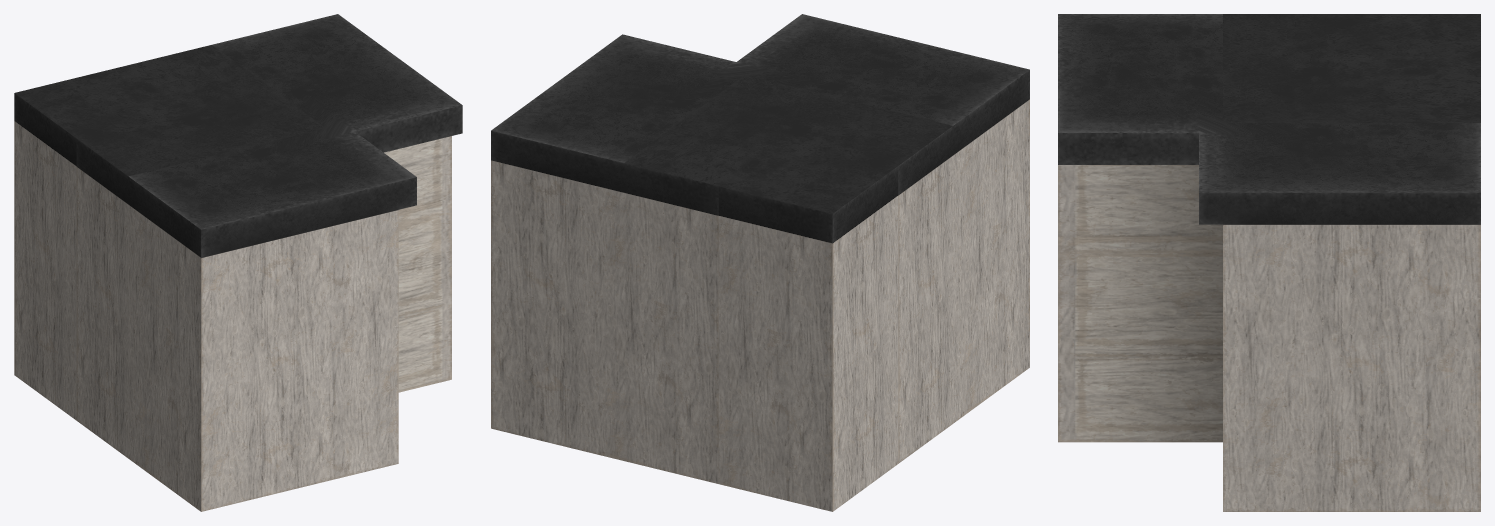
The model's file is kitchen_cabinet_edge.fbx.
3 views of the same model, side by side, from view 1: azimuth 30°, elevation 25°; view 2: azimuth 150°, elevation 25°; view 3: azimuth 270°, elevation 25° (orthographic). The views are drawn at different scales.
Visible parts, largest first — view 1: kitchen_cabinet_edge; view 2: kitchen_cabinet_edge; view 3: kitchen_cabinet_edge.
Boxes of the visible parts, left/top/right/bottom form: kitchen_cabinet_edge: left=14, top=14, right=462, bottom=511; kitchen_cabinet_edge: left=491, top=14, right=1029, bottom=511; kitchen_cabinet_edge: left=1058, top=14, right=1480, bottom=511.
Size of the model in its own units: 150 by 125 by 150.
Materials: 1 (1 with a texture image).
